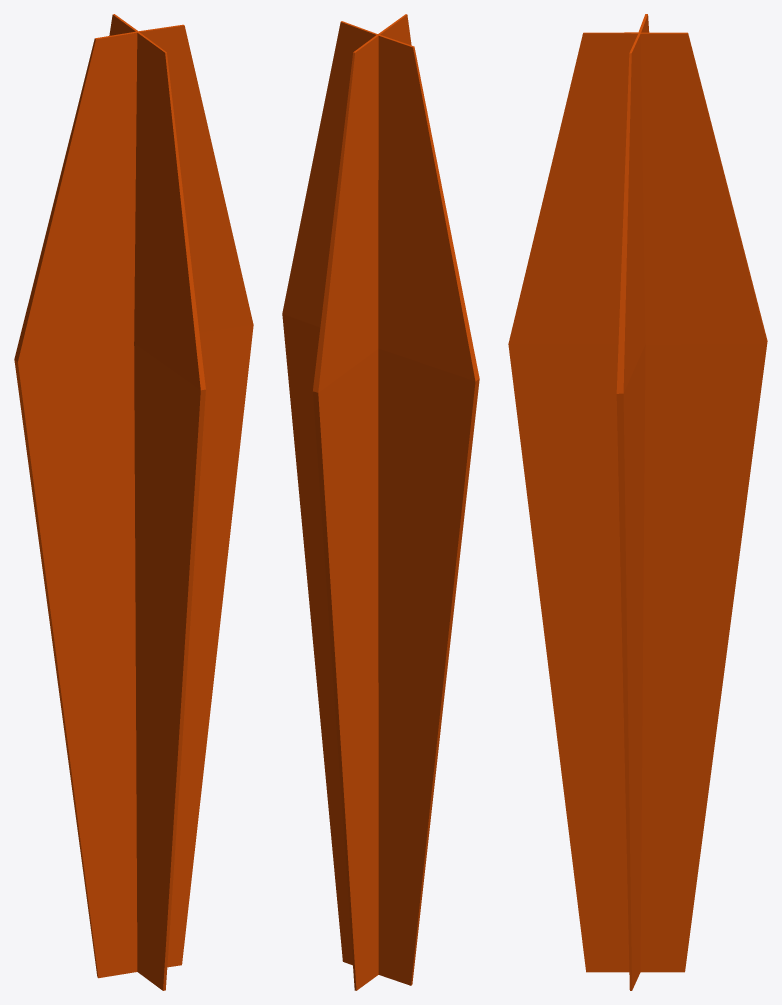
The model's file is tree-autumn-leaves-033.glb.
The picture shows the model from 3 angles, left to right: view 1: azimuth 30°, elevation 25°; view 2: azimuth 150°, elevation 25°; view 3: azimuth 270°, elevation 25°; orthographic projection.
Parts seen in each view (by area): view 1: Plane.033_368; view 2: Plane.033_368; view 3: Plane.033_368.
Boxes of the visible parts, left/top/right/bottom form: Plane.033_368: left=14, top=14, right=253, bottom=990; Plane.033_368: left=282, top=14, right=479, bottom=990; Plane.033_368: left=508, top=14, right=767, bottom=990.
Bounding box in the file's own units: 0.3317 × 1.38 × 0.3466.
